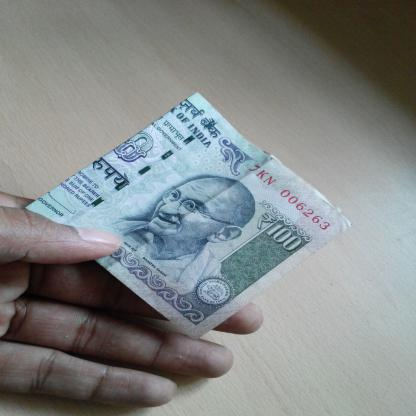Old100Front: (24, 91, 352, 340)
